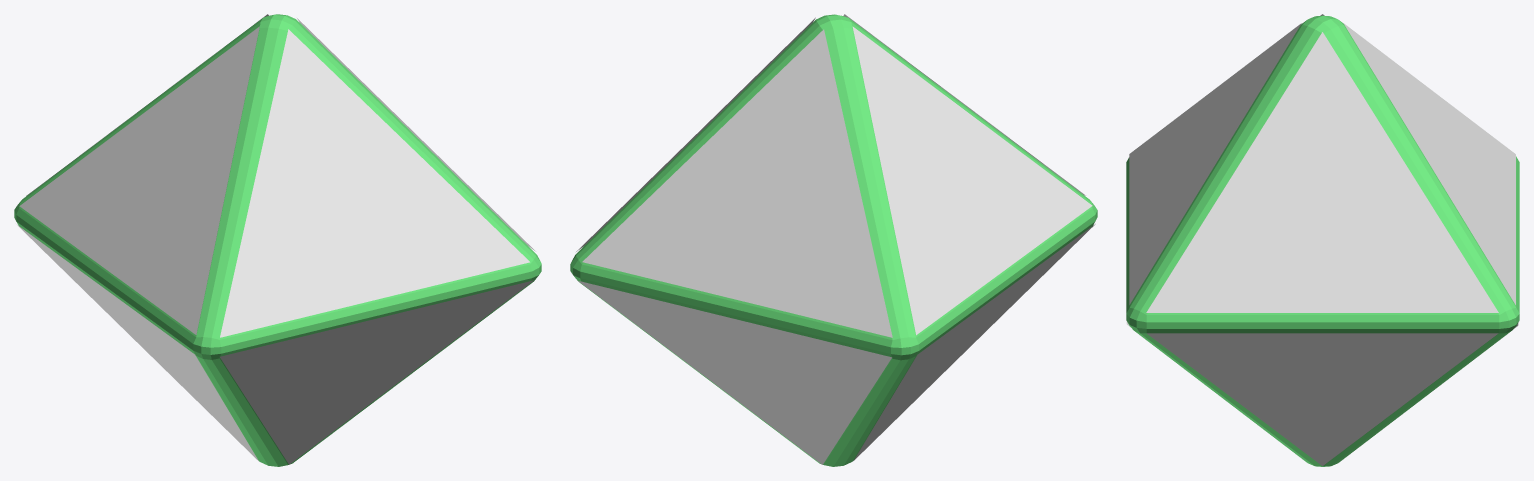
File: dice8.fbx
The picture shows the model from 3 angles, left to right: view 1: azimuth 30°, elevation 25°; view 2: azimuth 150°, elevation 25°; view 3: azimuth 270°, elevation 25°; orthographic projection.
Parts seen in each view (by area): view 1: Cube.004; view 2: Cube.004; view 3: Cube.004.
Part boxes in pixels (x1,y1,x2,y2): Cube.004: [14, 14, 541, 466]; Cube.004: [570, 14, 1097, 466]; Cube.004: [1126, 14, 1519, 466].
Size of the model in its own units: 162 by 199 by 159.
